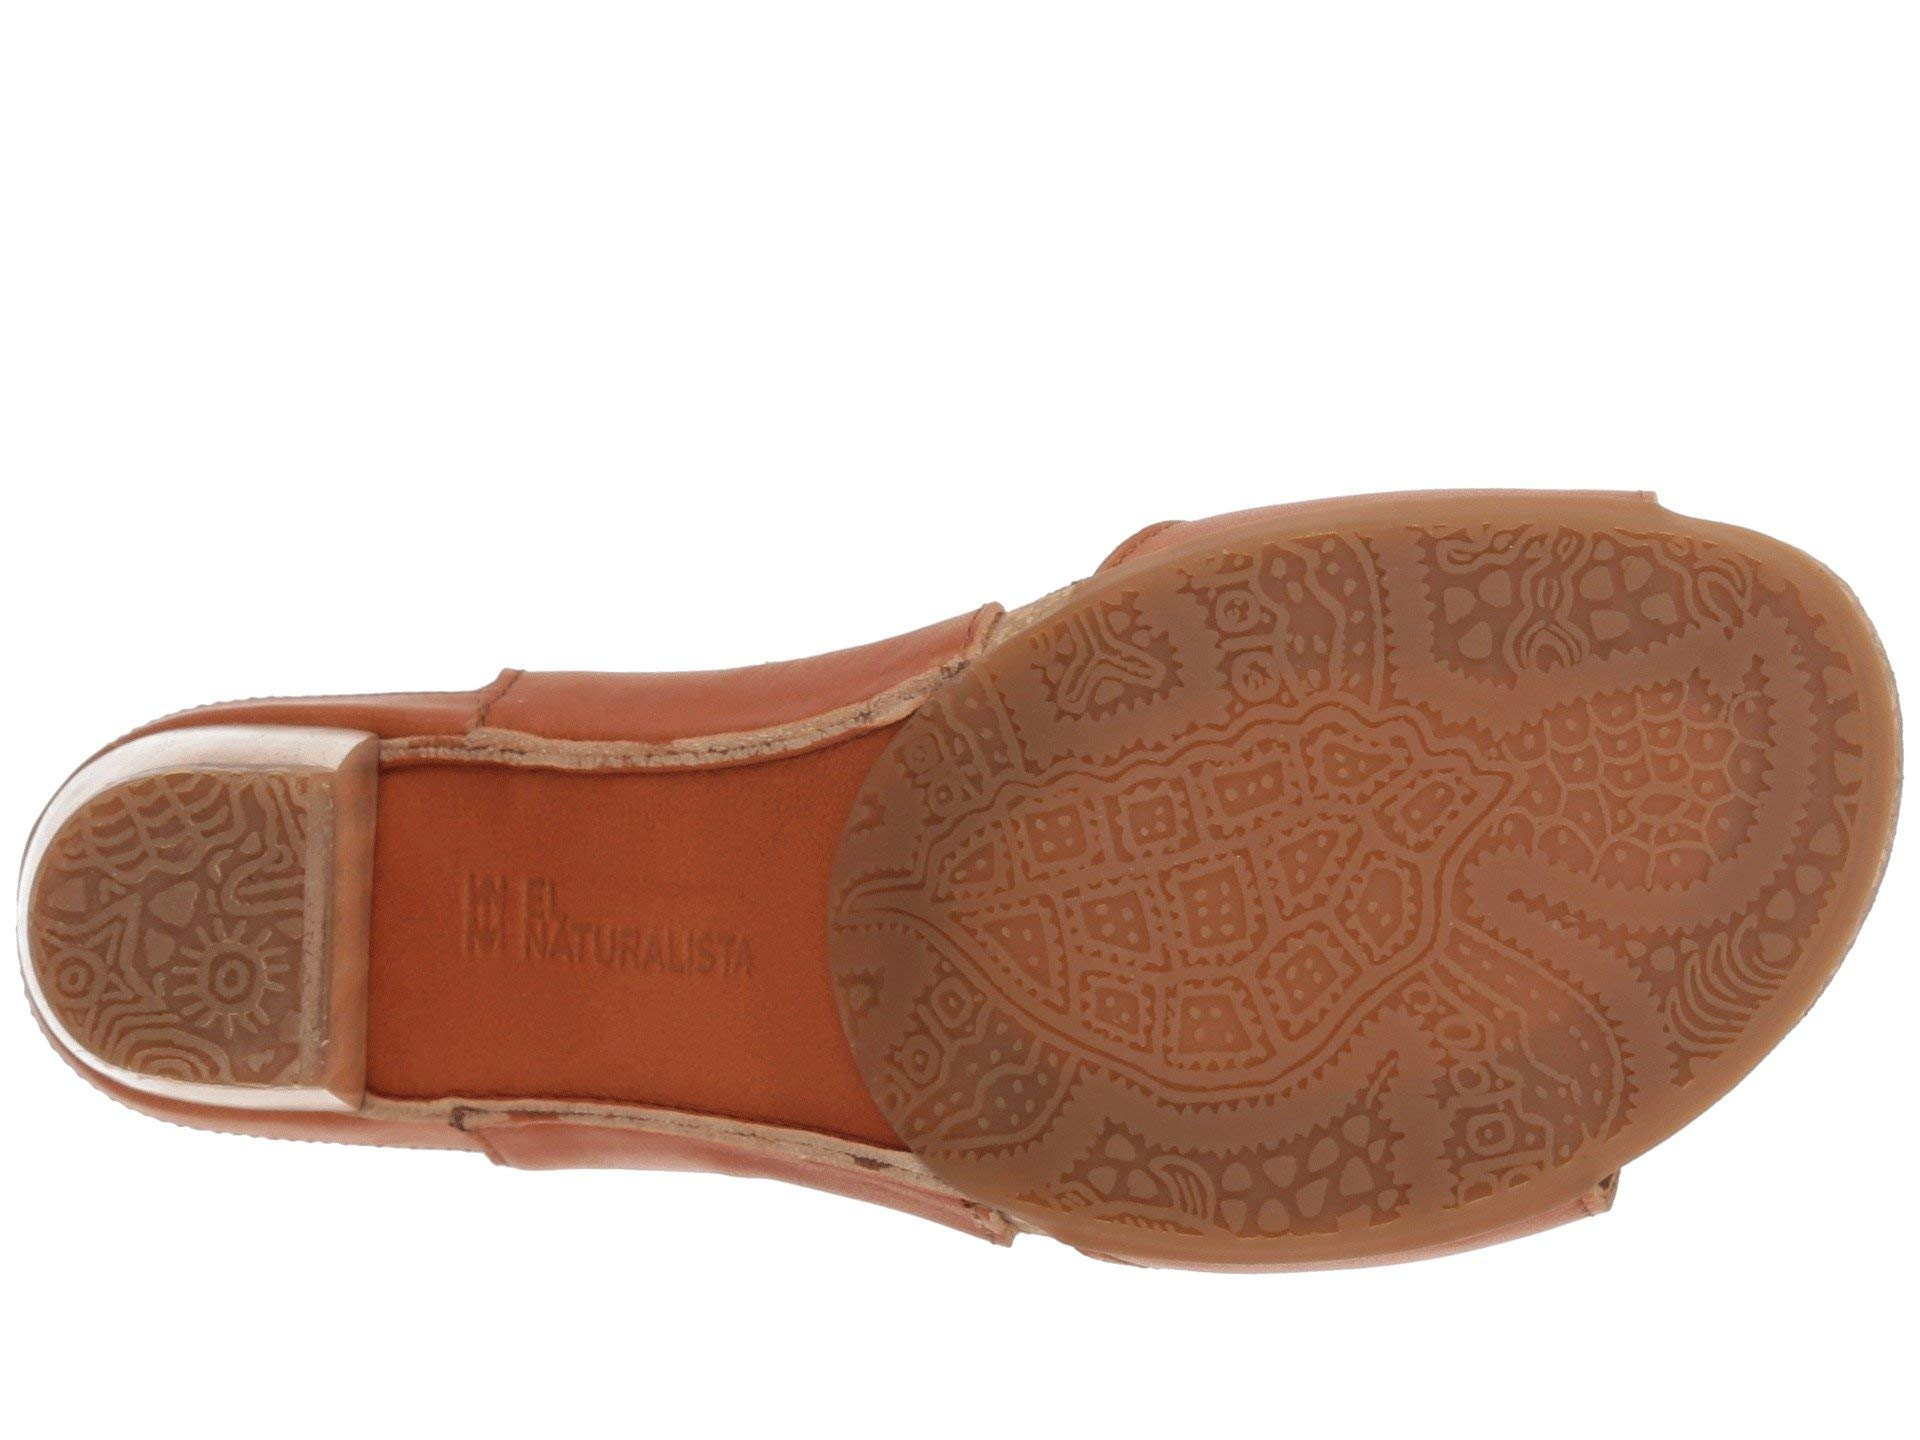circle: (1063, 700, 1457, 1078), (35, 871, 299, 1100)
quad: (1063, 700, 1457, 1078)
star: (35, 871, 299, 1100)
